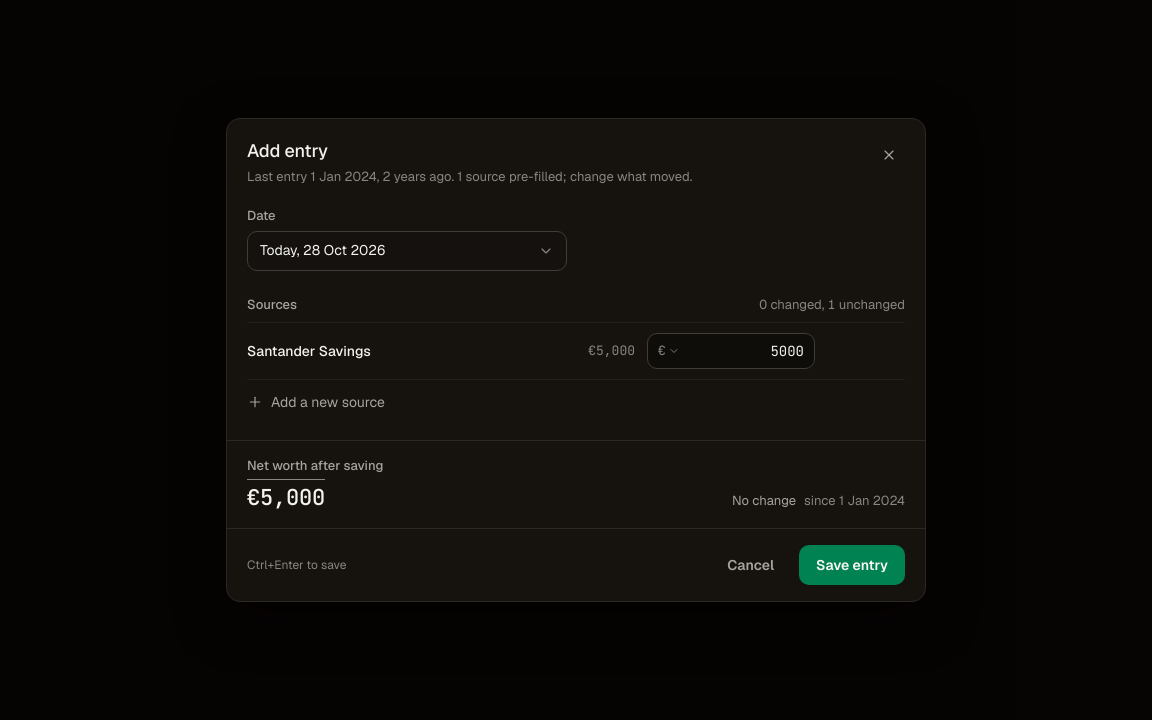
Scenario: AddMeasurementModal — Add a new source flow › clicking the row reveals the inline form
Expected: the field labelled "Name" is not shown
Click the button "Add a new source" at coordinates (328, 402), box [247,380,905,424]
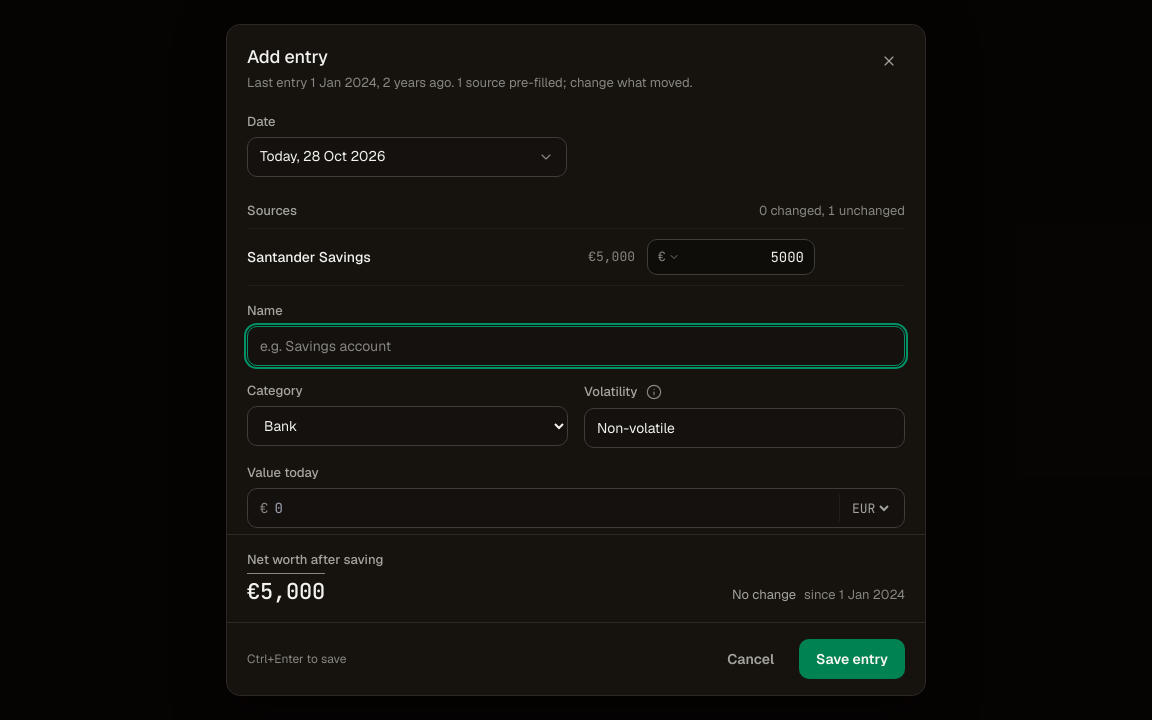
Now the field labelled "Name" is shown, box [247,326,905,366]
